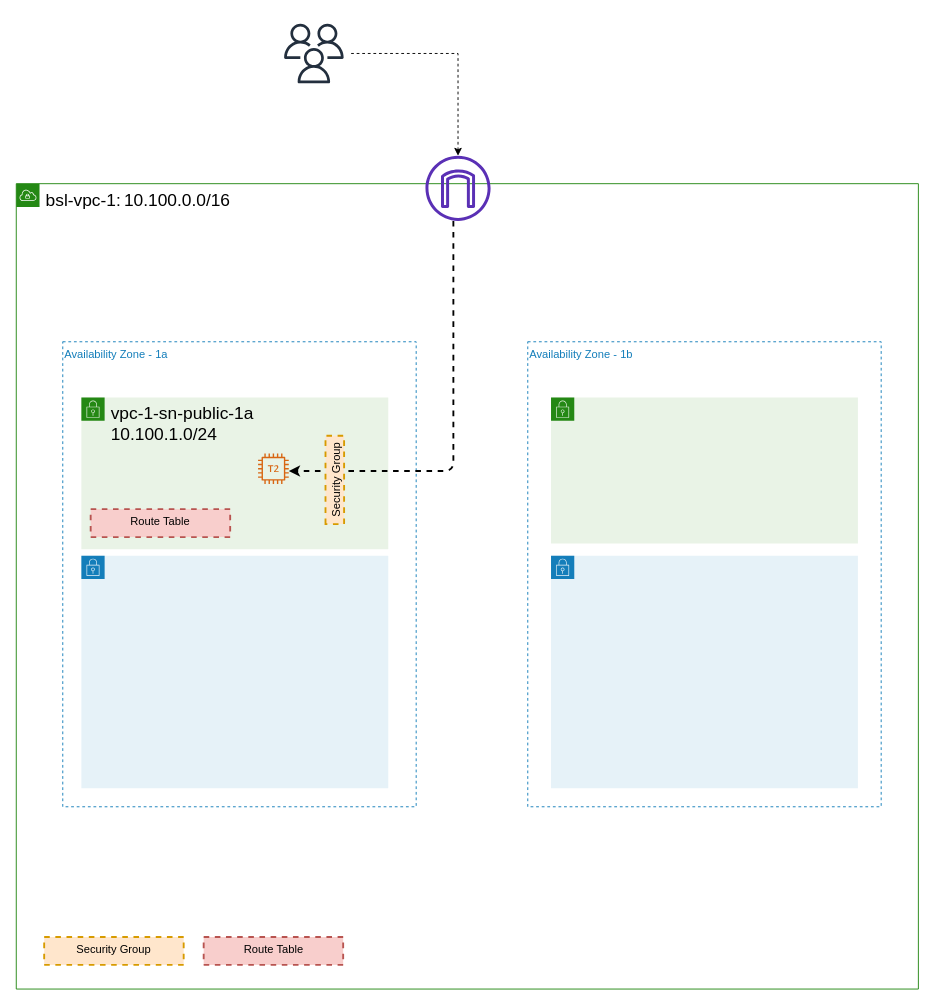
The diagram is 935 pixels wide and 1005 high, and some of its shapes have lost their labels. Here are the shapes that lost their labels. From the top down, the centre of each, then its label:
At point 313,53: "Users".
At point 704,470: "vpc-1-sn-public-1b 10.100.2.0/24".
At point 234,671: "vpc-1-sn-private-1a 10.100.3.0/24".
At point 704,671: "vpc-1-sn-private-1b 10.100.4.0/24".
